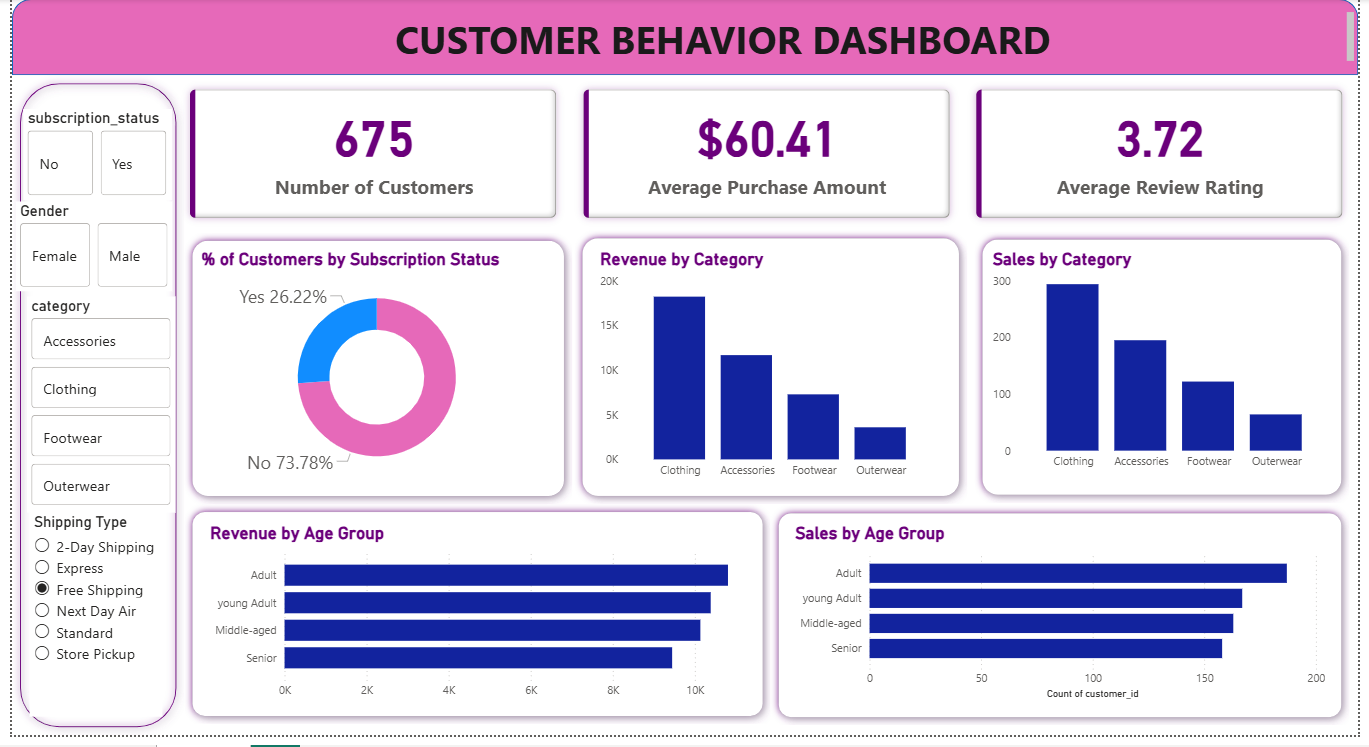

The page's visual inventory and layout, read from the dashboard file:
{"tool":"powerbi","page":{"name":"Page 1","canvas":[1500,820],"ordinal":0},"visuals":[{"type":"cardVisual","fields":{"Data":["public customer.Number of Customers","public customer.Average Purchase Amount","public customer.Average Review Rating"]},"box":[182.4,85,1317.5,175.5],"z":0},{"type":"shape","box":[0,0,1499.9,85],"z":1000},{"type":"textbox","box":[91.9,9.7,1408,65.5],"z":2000},{"type":"shape","box":[192.2,260.4,431.7,302.2],"z":3000},{"type":"donutChart","title":"% of Customers by Subscription Status","fields":{"Category":["public customer.subscription_status"],"Y":["CountNonNull(public customer.customer_id)"]},"box":[206.1,278.5,401.1,264.6],"z":4000},{"type":"shape","box":[1072.4,259,417.8,302.2],"z":5000},{"type":"shape","box":[626.7,257.6,437.3,305],"z":6000},{"type":"clusteredColumnChart","title":"Revenue by Category","fields":{"Y":["Sum(public customer.purchase_ammount)"],"Category":["public customer.category"]},"box":[650.4,278.5,383,264.6],"z":7000},{"type":"clusteredColumnChart","title":"Sales by Category","fields":{"Y":["CountNonNull(public customer.customer_id)"],"Category":["public customer.category"]},"box":[1087.7,278.5,387.2,254.9],"z":8000},{"type":"shape","box":[0,85,192.2,735.3],"z":9000},{"type":"advancedSlicerVisual","fields":{"Values":["public customer.subscription_status"]},"box":[12.5,122.6,165.7,101.7],"z":10000},{"type":"advancedSlicerVisual","fields":{"Values":["public customer.gender"]},"box":[4.2,225.6,174.1,100.3],"z":11000},{"type":"advancedSlicerVisual","fields":{"Values":["public customer.category"]},"box":[16.7,331.5,165.7,240.9],"z":12000},{"type":"listSlicer","fields":{"Values":["public customer.shipping_type"]},"box":[19.5,572.4,147.6,227],"z":13000},{"type":"shape","box":[192.2,562.6,653.2,245.1],"z":14000},{"type":"shape","box":[845.4,564,644.8,245.1],"z":15000},{"type":"clusteredBarChart","title":"Sales by Age Group","fields":{"Category":["public customer.age_group"],"Y":["CountNonNull(public customer.customer_id)"]},"box":[867.6,583.5,600.2,201.9],"z":16000},{"type":"clusteredBarChart","title":"Revenue by Age Group","fields":{"Y":["Sum(public customer.purchase_ammount)"],"Category":["public customer.age_group"]},"box":[215.9,583.5,605.8,204.7],"z":16001}]}

Visuals, with their boxes in screenshot pixels (x1, y1, x2, y2), scaled from the page's 1500x820 canvas onto the 1369x747 screenshot:
cardVisual - public customer.Number of Customers x public customer.Average Purchase Amount: select_region(166, 77, 1368, 237)
shape: select_region(0, 0, 1368, 77)
textbox: select_region(84, 9, 1368, 69)
shape: select_region(175, 237, 569, 513)
"% of Customers by Subscription Status" donutChart: select_region(188, 254, 554, 495)
shape: select_region(979, 236, 1360, 511)
shape: select_region(572, 235, 971, 513)
"Revenue by Category" clusteredColumnChart: select_region(594, 254, 943, 495)
"Sales by Category" clusteredColumnChart: select_region(993, 254, 1346, 486)
shape: select_region(0, 77, 175, 746)
advancedSlicerVisual - public customer.subscription_status: select_region(11, 112, 163, 204)
advancedSlicerVisual - public customer.gender: select_region(4, 206, 163, 297)
advancedSlicerVisual - public customer.category: select_region(15, 302, 166, 521)
listSlicer - public customer.shipping_type: select_region(18, 521, 153, 728)
shape: select_region(175, 513, 772, 736)
shape: select_region(772, 514, 1360, 737)
"Sales by Age Group" clusteredBarChart: select_region(792, 532, 1340, 715)
"Revenue by Age Group" clusteredBarChart: select_region(197, 532, 750, 718)
